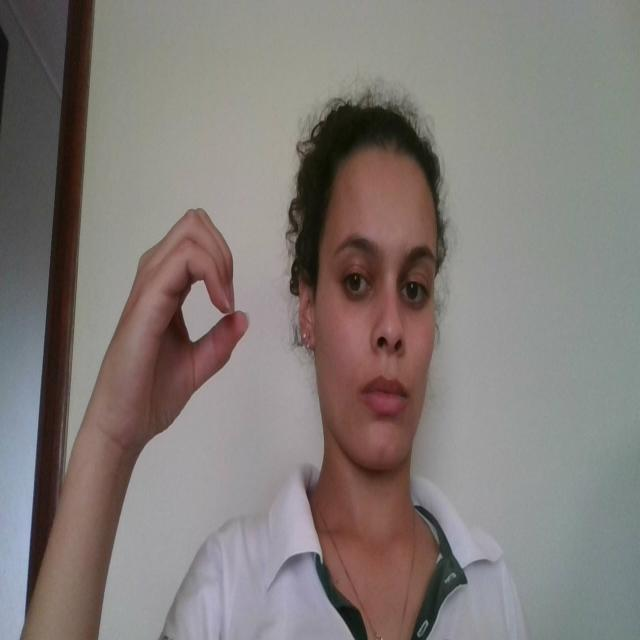O: (116, 203, 253, 430)
